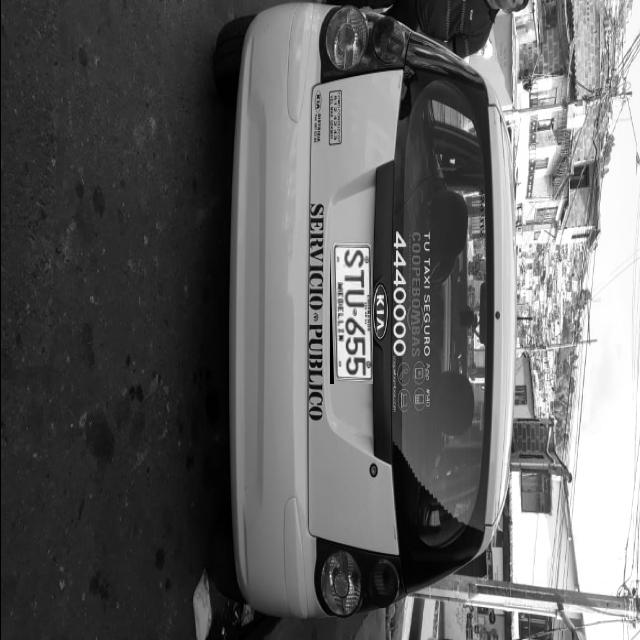plate: (329, 246, 372, 384)
